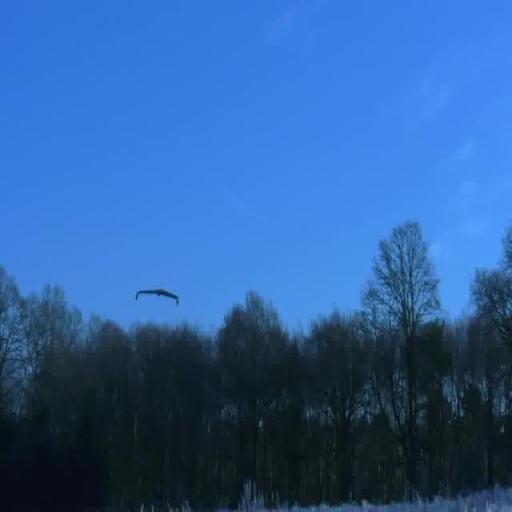uav: (133, 278, 183, 314)
